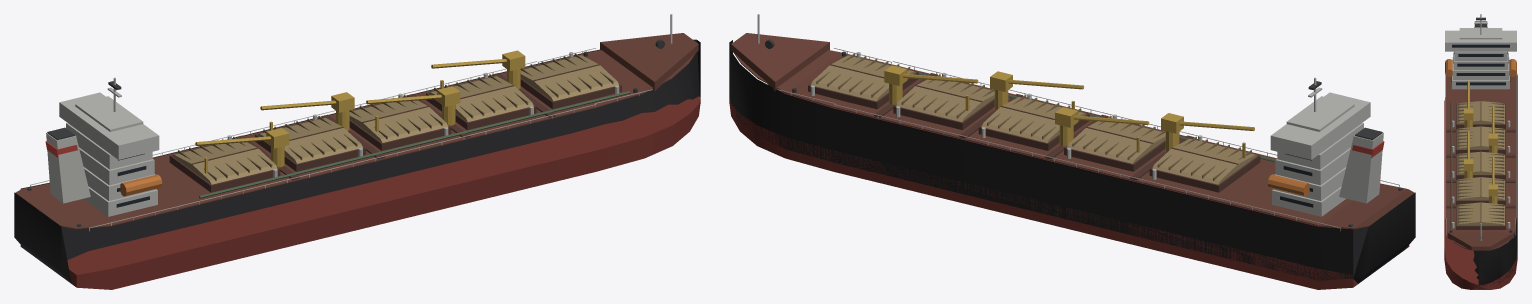
Rendered from fh_battle_e_ship_bulk.glb.
3 renders of one model, left to right at view 1: azimuth 30°, elevation 25°; view 2: azimuth 150°, elevation 25°; view 3: azimuth 270°, elevation 25°, orthographic. The views are drawn at different scales.
Parts seen in each view (by area): view 1: body; view 2: body; view 3: body.
Part boxes in pixels (x1=…): body: x1=14, y1=14, x2=700, y2=289; body: x1=729, y1=14, x2=1415, y2=289; body: x1=1444, y1=14, x2=1517, y2=289.
Size of the model in its own units: 1 by 0.2625 by 0.1583.
